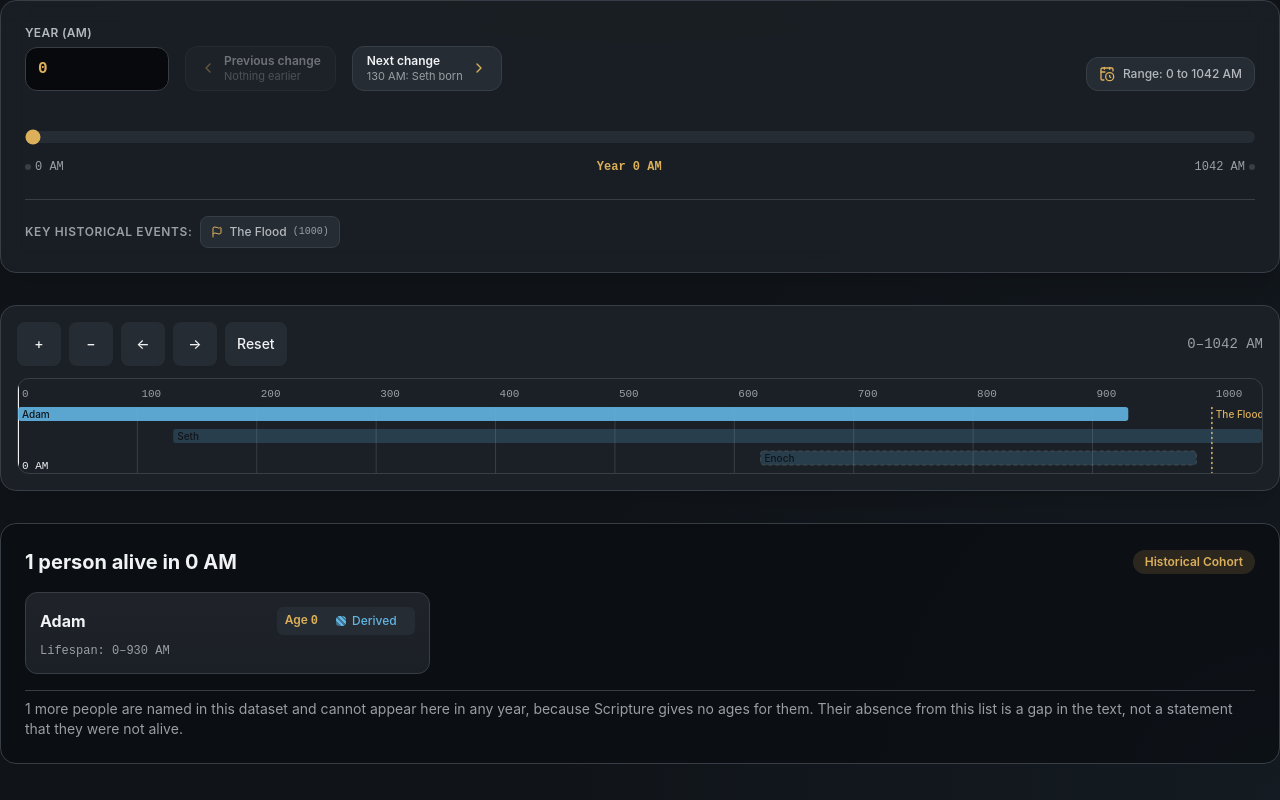
Test: YearExplorer › jumps to a dated event
The width and height of the screenshot is (1280, 800).
Click the button "The Flood (1000)": (270, 232) [200, 216, 340, 248]
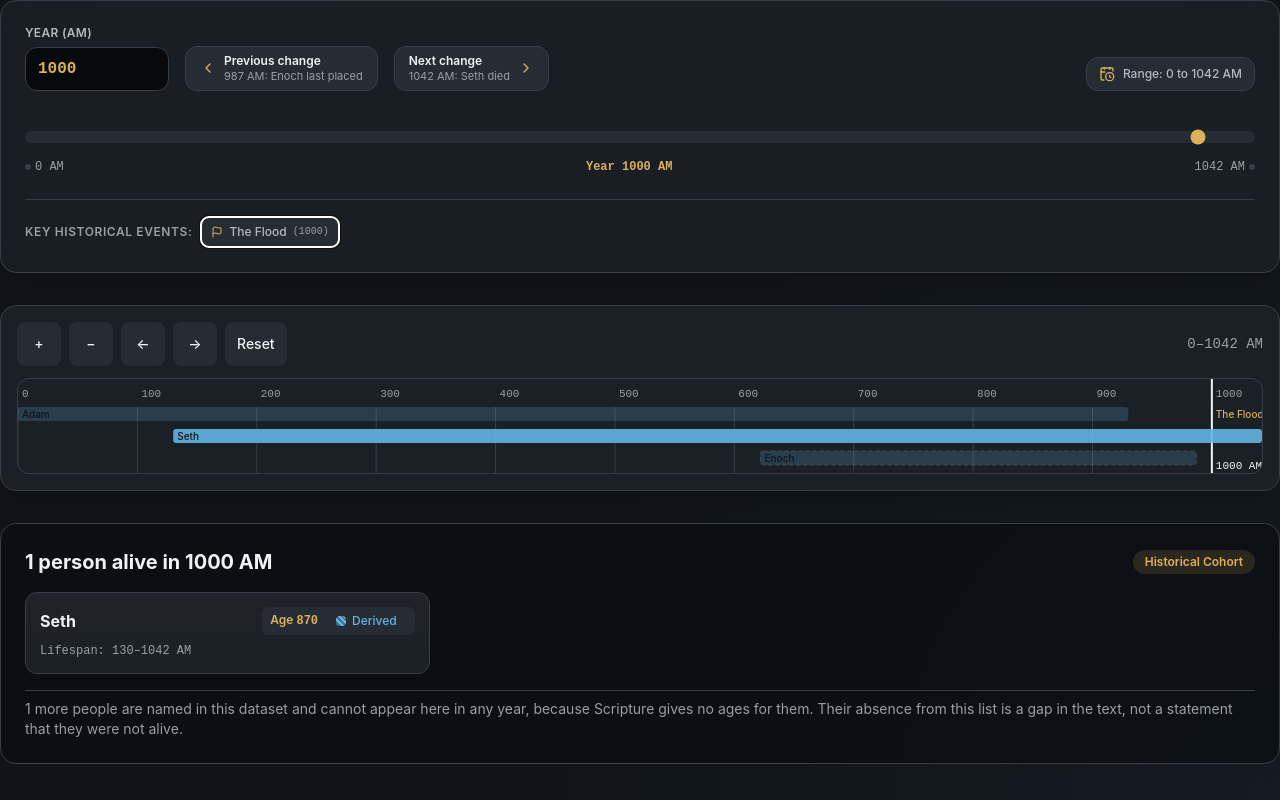
Expected: the heading with test id "living-heading" shows "1000 AM", [25, 550, 272, 574]
